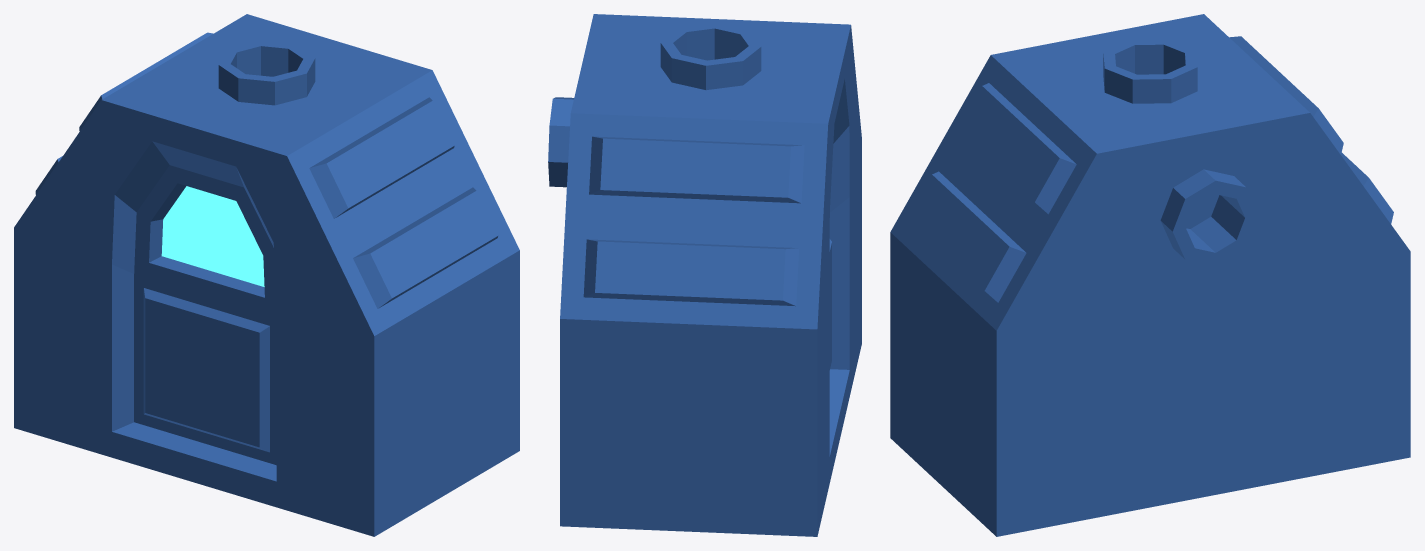
Rendered from Generator.glb.
The picture shows the model from 3 angles, left to right: view 1: azimuth 30°, elevation 25°; view 2: azimuth 150°, elevation 25°; view 3: azimuth 270°, elevation 25°; orthographic projection. The views are drawn at different scales.
Parts seen in each view (by area): view 1: Generator.003; view 2: Generator.003; view 3: Generator.003.
Boxes of the visible parts, x1,y1,x2,y2 form: Generator.003: [14, 14, 519, 536]; Generator.003: [548, 14, 861, 536]; Generator.003: [890, 14, 1410, 536].
Bounding box in the file's own units: 2.3 × 2.34 × 2.84.
